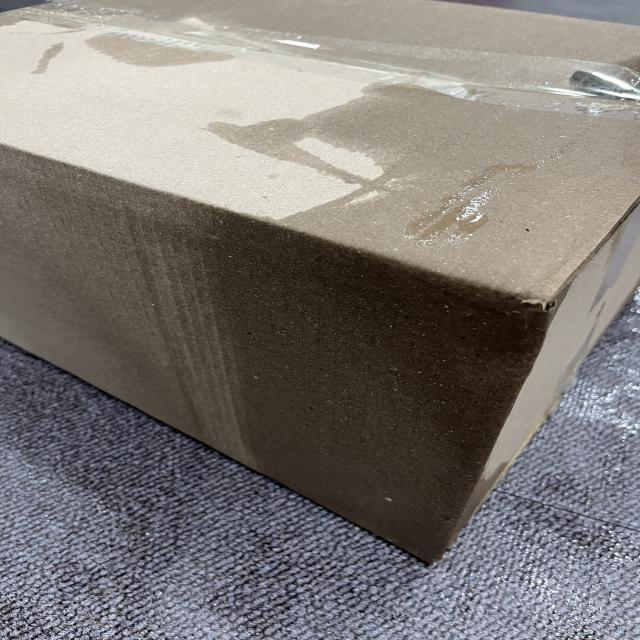wet: (188, 87, 604, 571)
